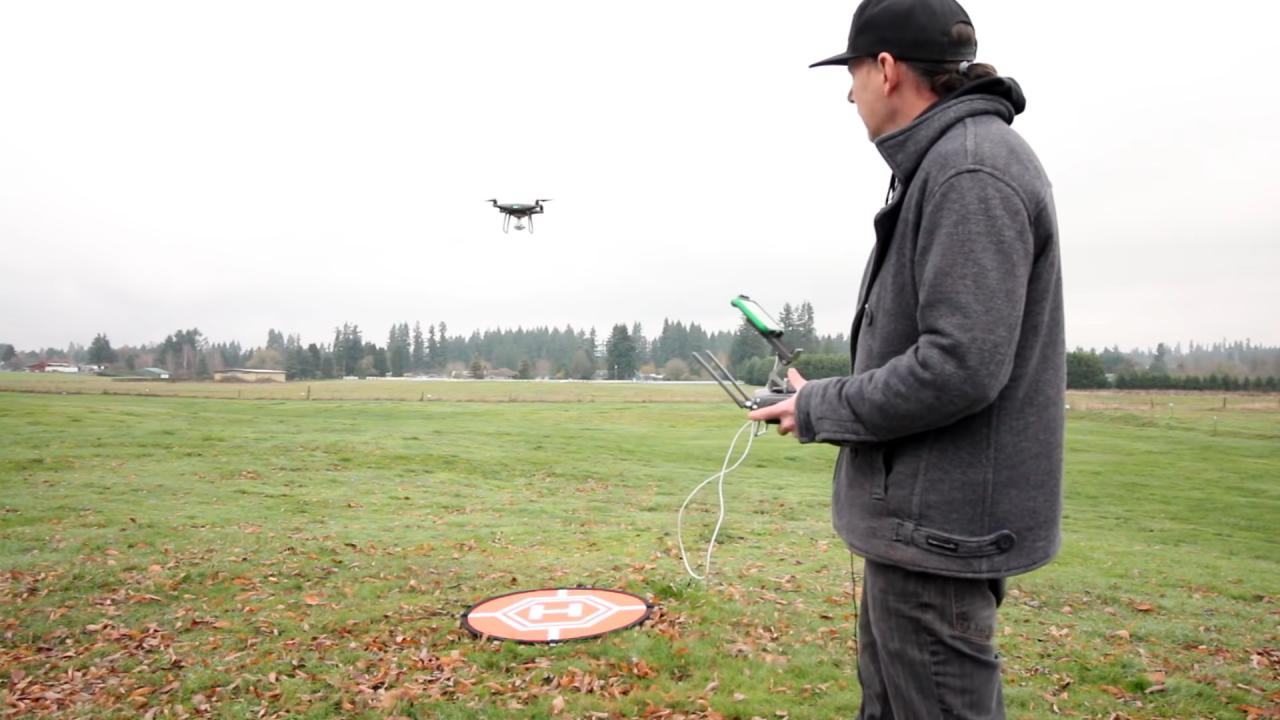Drone: (478, 193, 562, 241)
